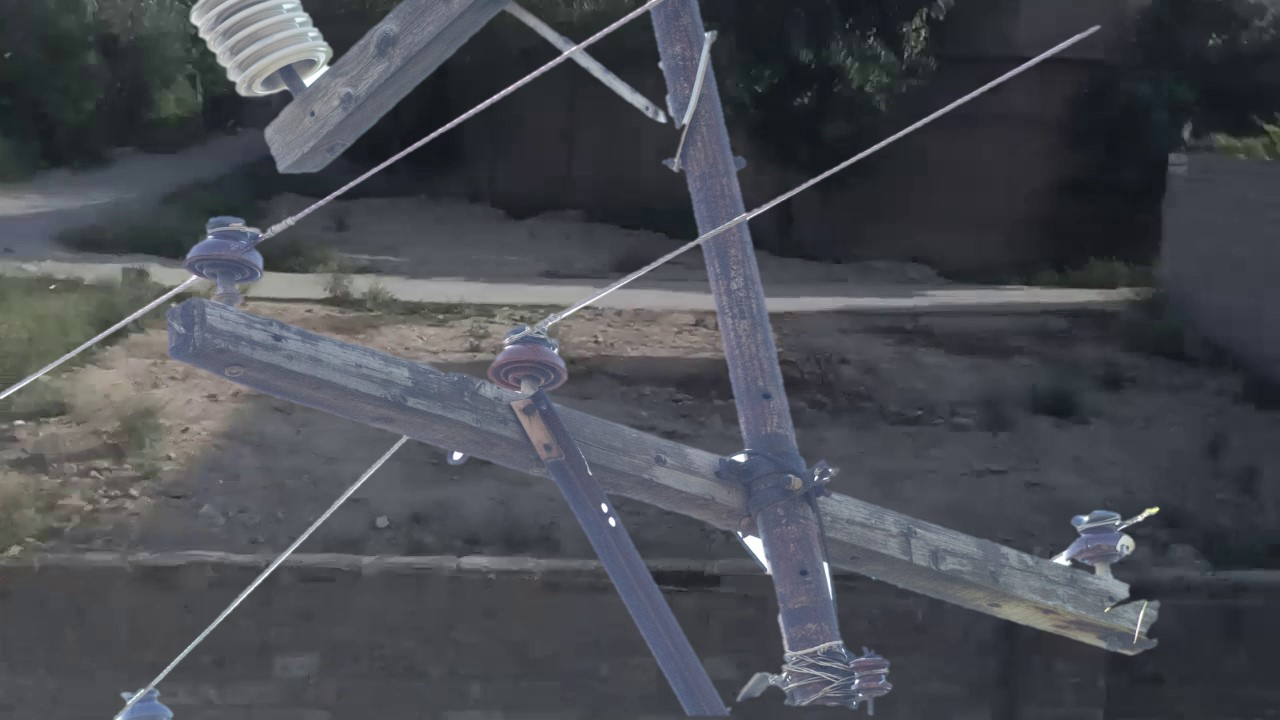defect_pin: (1064, 504, 1139, 569)
insulator_pin: (182, 210, 272, 289), (488, 330, 570, 399)
